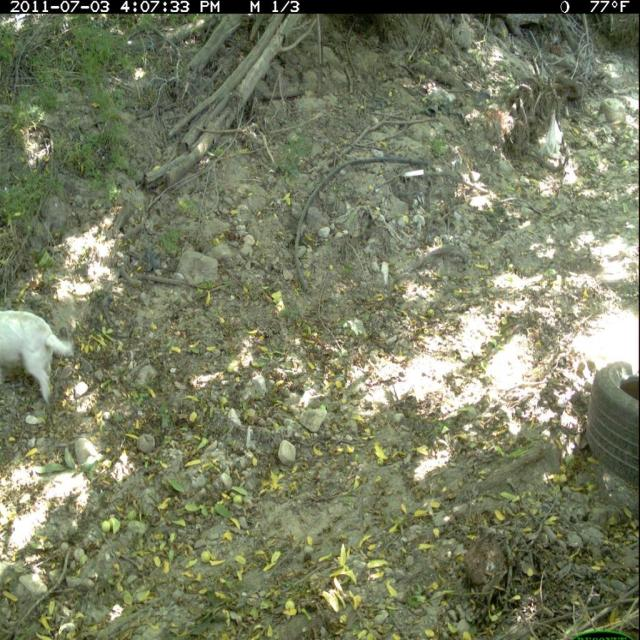dog: (1, 303, 76, 407)
